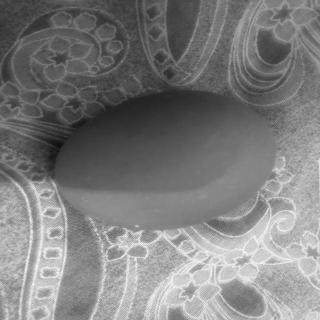Telur: (51, 88, 280, 237)
